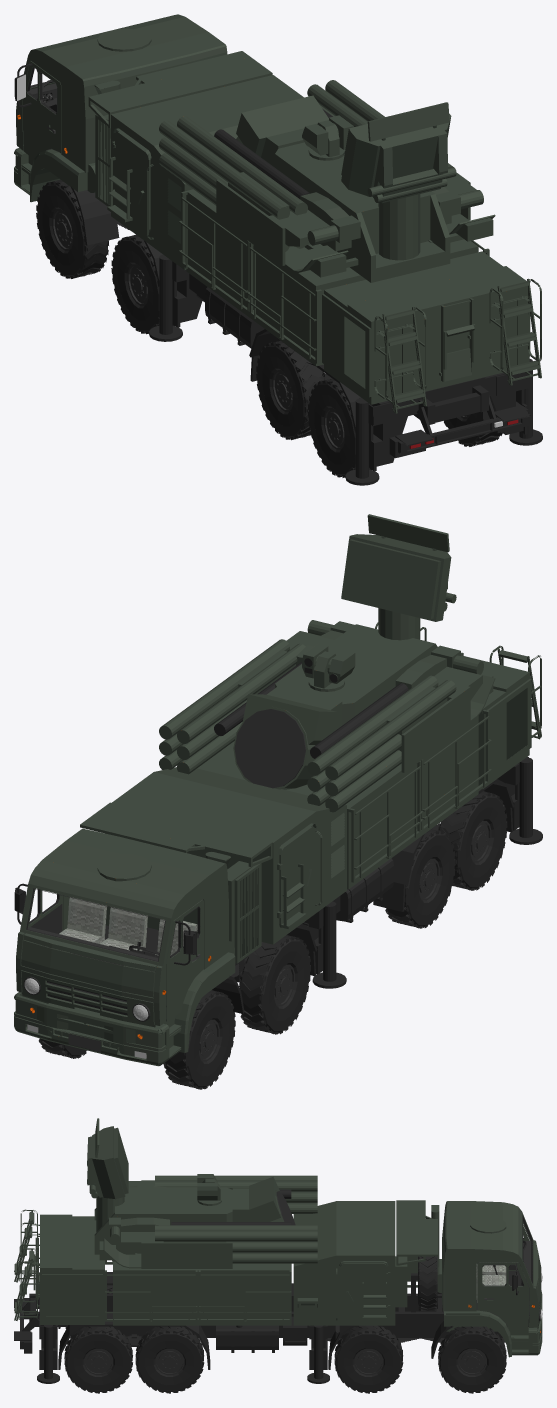
The model's file is pantsir.glb.
3 views of the same model, one above another, from view 1: azimuth 30°, elevation 25°; view 2: azimuth 150°, elevation 25°; view 3: azimuth 270°, elevation 25° (orthographic). The views are drawn at different scales.
Visible parts, largest first — view 1: V_pantsir__Body_1, V_pantsir__Turret_1, V_pantsir__Gun_1, V_pantsir__Radar_1, V_pantsir__Body_2, V_pantsir__W05_1, V_pantsir__W01_1, V_pantsir__W03_1, V_pantsir__W07_1, V_pantsir__W08_1; view 2: V_pantsir__Body_1, V_pantsir__Gun_1, V_pantsir__Turret_1, V_pantsir__Radar_1, V_pantsir__Body_2, V_pantsir__W03_1, V_pantsir__W07_1, V_pantsir__W01_1, V_pantsir__W05_1; view 3: V_pantsir__Body_1, V_pantsir__Gun_1, V_pantsir__Turret_1, V_pantsir__Body_2, V_pantsir__W04_1, V_pantsir__W02_1, V_pantsir__W06_1, V_pantsir__W08_1, V_pantsir__Radar_1.
Boxes of the visible parts, <box> form: V_pantsir__Body_1: <box>14,14,542,485</box>; V_pantsir__Turret_1: <box>236,95,495,282</box>; V_pantsir__Gun_1: <box>159,80,476,265</box>; V_pantsir__Radar_1: <box>341,102,456,203</box>; V_pantsir__Body_2: <box>14,61,292,411</box>; V_pantsir__W05_1: <box>256,340,324,440</box>; V_pantsir__W01_1: <box>36,179,108,278</box>; V_pantsir__W03_1: <box>111,235,174,334</box>; V_pantsir__W07_1: <box>308,378,371,477</box>; V_pantsir__W08_1: <box>444,412,502,446</box>; V_pantsir__Body_1: <box>14,622,542,1066</box>; V_pantsir__Gun_1: <box>159,630,482,812</box>; V_pantsir__Turret_1: <box>233,608,495,789</box>; V_pantsir__Radar_1: <box>341,514,456,621</box>; V_pantsir__Body_2: <box>14,858,439,1061</box>; V_pantsir__W03_1: <box>239,935,310,1034</box>; V_pantsir__W07_1: <box>438,791,507,890</box>; V_pantsir__W01_1: <box>163,990,235,1089</box>; V_pantsir__W05_1: <box>385,829,455,928</box>; V_pantsir__Body_1: <box>14,1200,542,1383</box>; V_pantsir__Gun_1: <box>121,1175,317,1268</box>; V_pantsir__Turret_1: <box>94,1174,295,1268</box>; V_pantsir__Body_2: <box>155,1225,529,1375</box>; V_pantsir__W04_1: <box>334,1325,403,1393</box>; V_pantsir__W02_1: <box>438,1326,506,1393</box>; V_pantsir__W06_1: <box>135,1326,204,1393</box>; V_pantsir__W08_1: <box>64,1326,132,1393</box>; V_pantsir__Radar_1: <box>87,1118,128,1199</box>.
Bounding box in the file's own units: 8.34 × 14.26 × 28.86.
1 material, 1 textured.
